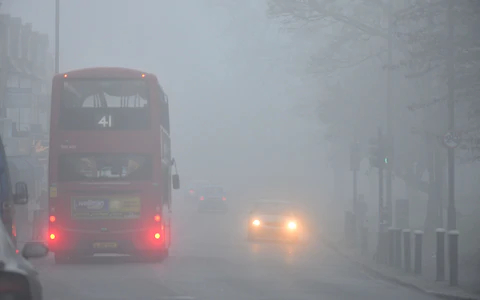bus: (46, 70, 170, 262)
car: (247, 202, 302, 243), (198, 187, 227, 211), (182, 181, 207, 203)
